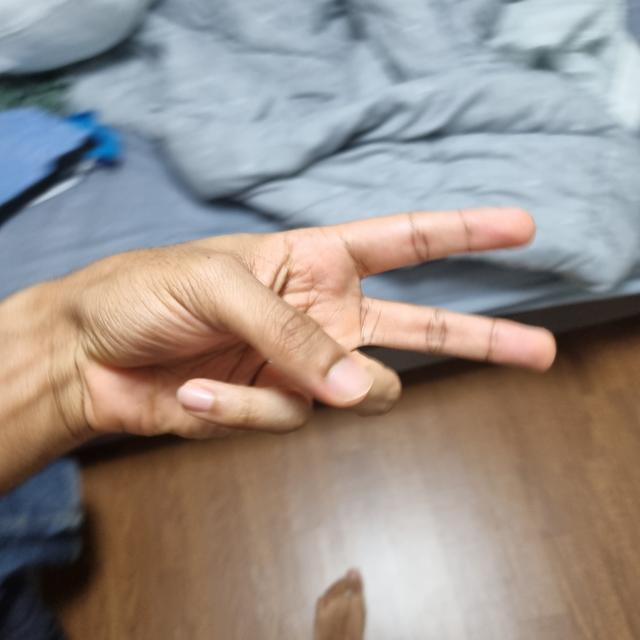Scissors: (8, 212, 544, 448)
